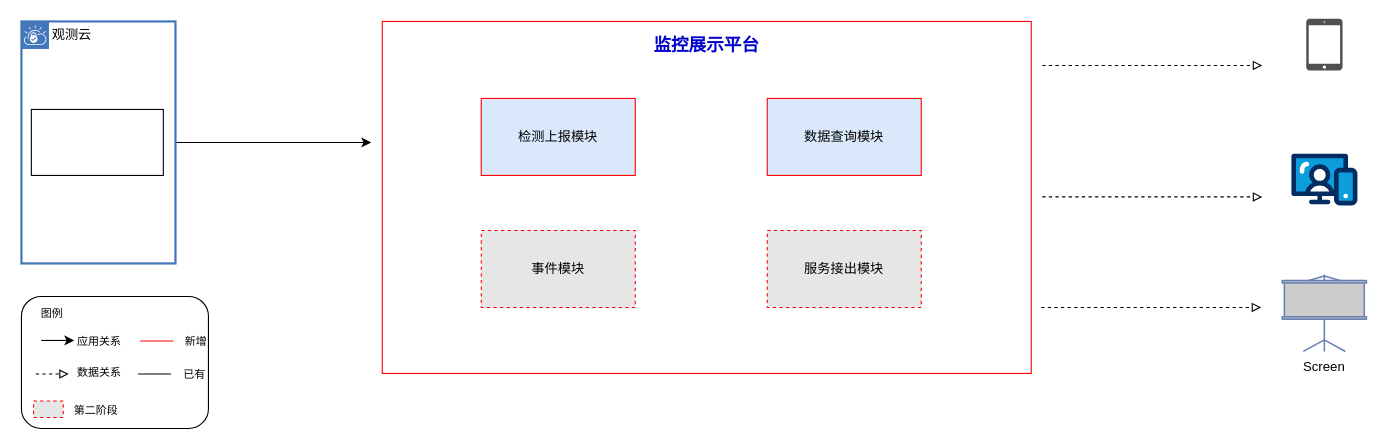
The diagram is 1386 pixels wide and 448 high, and some of its shapes have lost their labels. The centre of each missing label's shape, as x and y in pixels:
FUNC: [96,141]
Mini App: [1324,44]
Web: [1323,179]
